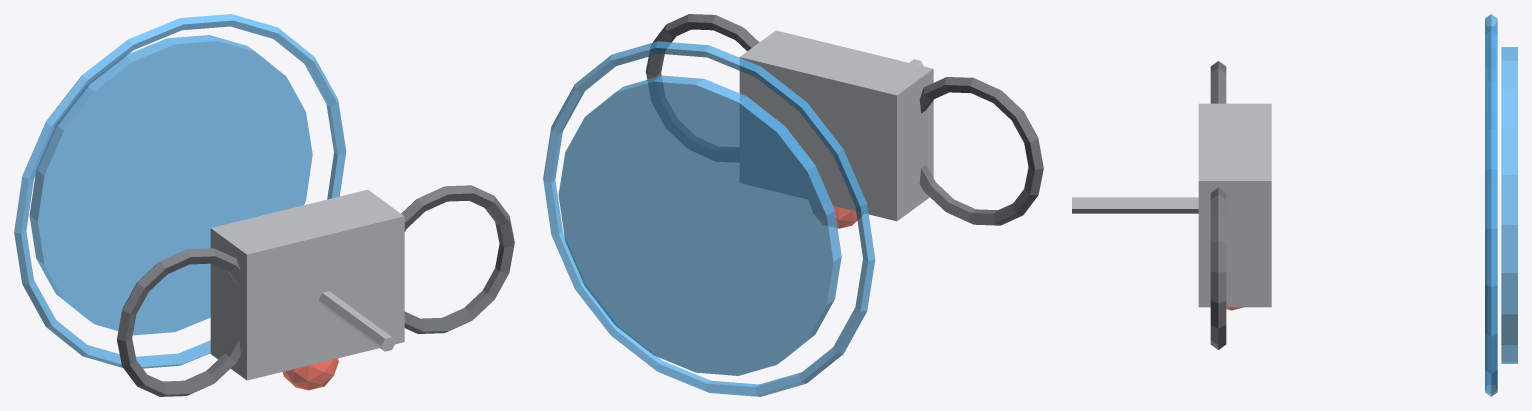
File: 07_scout_drone_companion.glb
The picture shows the model from 3 angles, left to right: view 1: azimuth 30°, elevation 25°; view 2: azimuth 150°, elevation 25°; view 3: azimuth 270°, elevation 25°; orthographic projection.
Visible parts, largest first — view 1: base_disc, drone_body, base_ring, rotor_l, rotor_r, antenna, sensor_eye; view 2: base_disc, drone_body, base_ring, rotor_l, rotor_r, sensor_eye; view 3: drone_body, base_disc, base_ring, rotor_r, antenna, rotor_l.
Part boxes in pixels (bbox=[...]): base_disc: bbox=[29, 35, 312, 335]; drone_body: bbox=[210, 189, 404, 380]; base_ring: bbox=[14, 14, 346, 368]; rotor_l: bbox=[116, 248, 240, 396]; rotor_r: bbox=[401, 185, 514, 333]; antenna: bbox=[318, 291, 395, 351]; sensor_eye: bbox=[282, 358, 338, 390]; base_disc: bbox=[558, 75, 841, 375]; drone_body: bbox=[739, 30, 933, 221]; base_ring: bbox=[543, 41, 875, 396]; rotor_l: bbox=[919, 77, 1043, 225]; rotor_r: bbox=[645, 14, 759, 161]; sensor_eye: bbox=[809, 200, 862, 228]; drone_body: bbox=[1198, 103, 1271, 307]; base_disc: bbox=[1501, 47, 1517, 363]; base_ring: bbox=[1485, 14, 1497, 396]; rotor_r: bbox=[1210, 187, 1226, 349]; antenna: bbox=[1072, 197, 1198, 213]; rotor_l: bbox=[1210, 61, 1226, 103].
Bounding box in the file's own units: 1.39 × 1.16 × 1.34.
